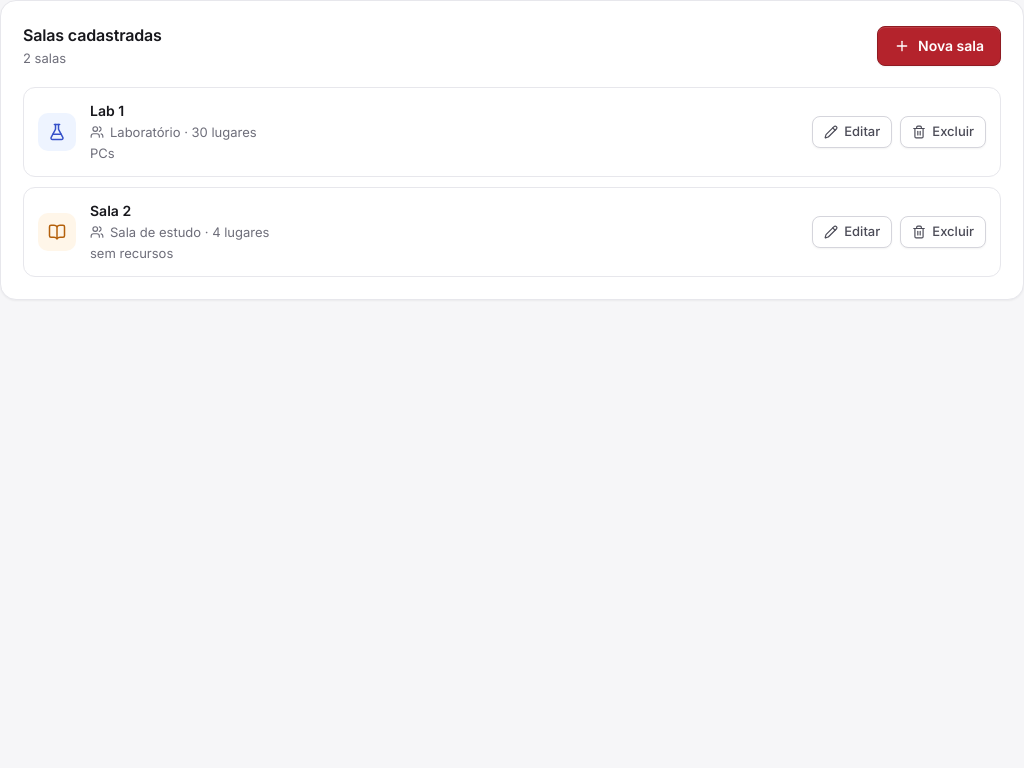
Test: AdminSalas › edita uma sala no painel lateral
Click the button with aria-label "Editar Lab 1" at (852, 132), box [812,116,892,148]
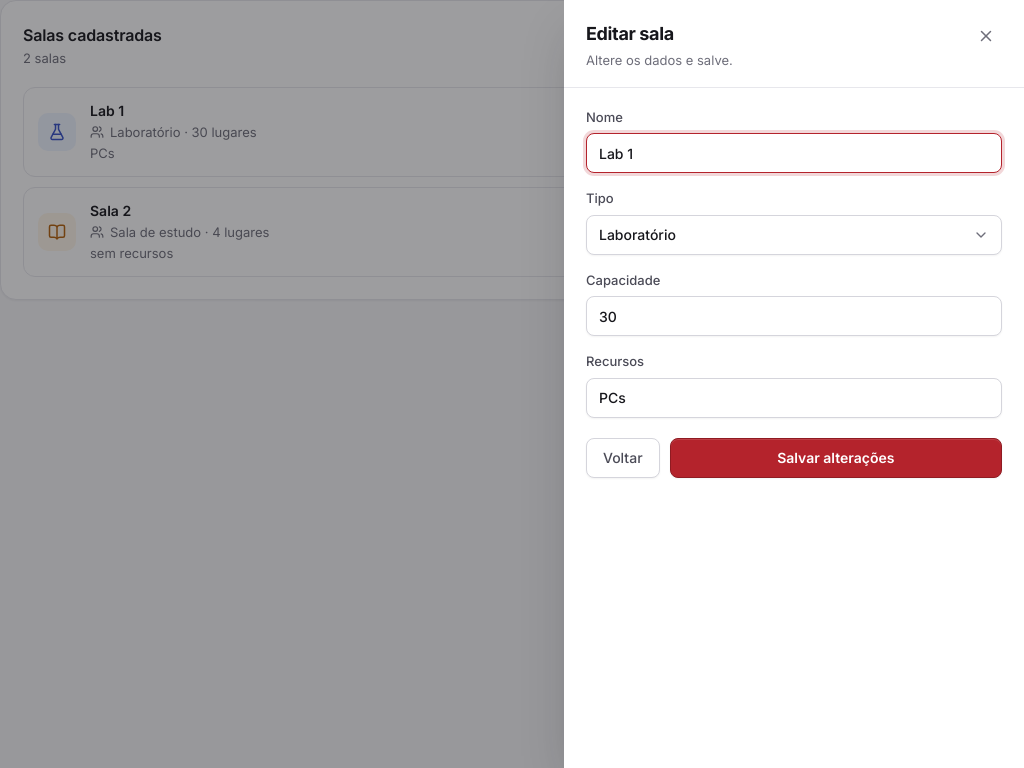
Expected: the dialog "Editar sala" is shown, [564,0,1023,767]
Expected: the number field labelled "Capacidade" holds "30"
Replace the text in the number field labelled "Capacidade" with "35" at (794, 316), box [586,296,1002,336]
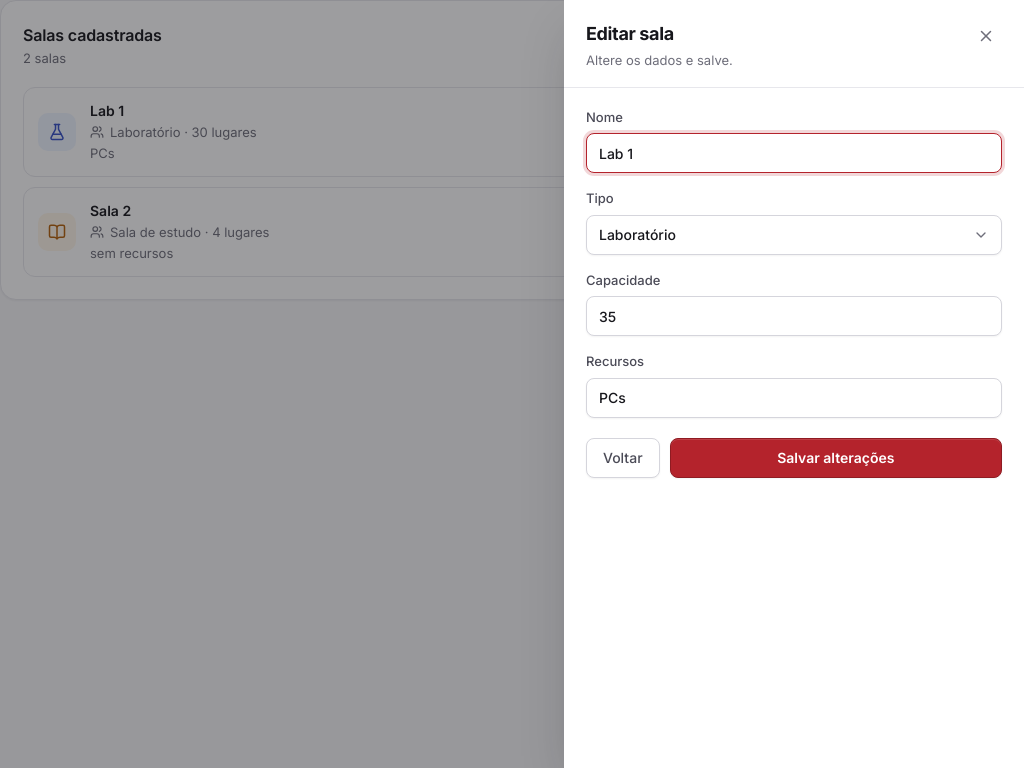
Click the button "Salvar alterações" at (836, 458), box [670,438,1002,478]
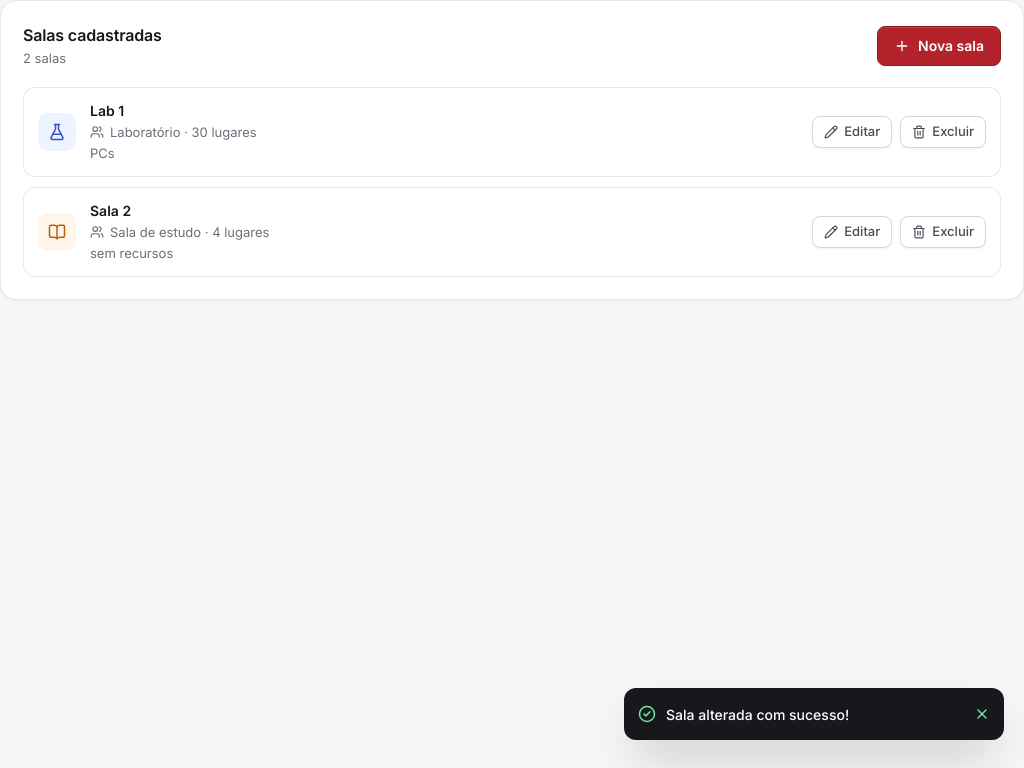
Expected: the text "Sala alterada com sucesso!" is shown, [666,706,849,722]
